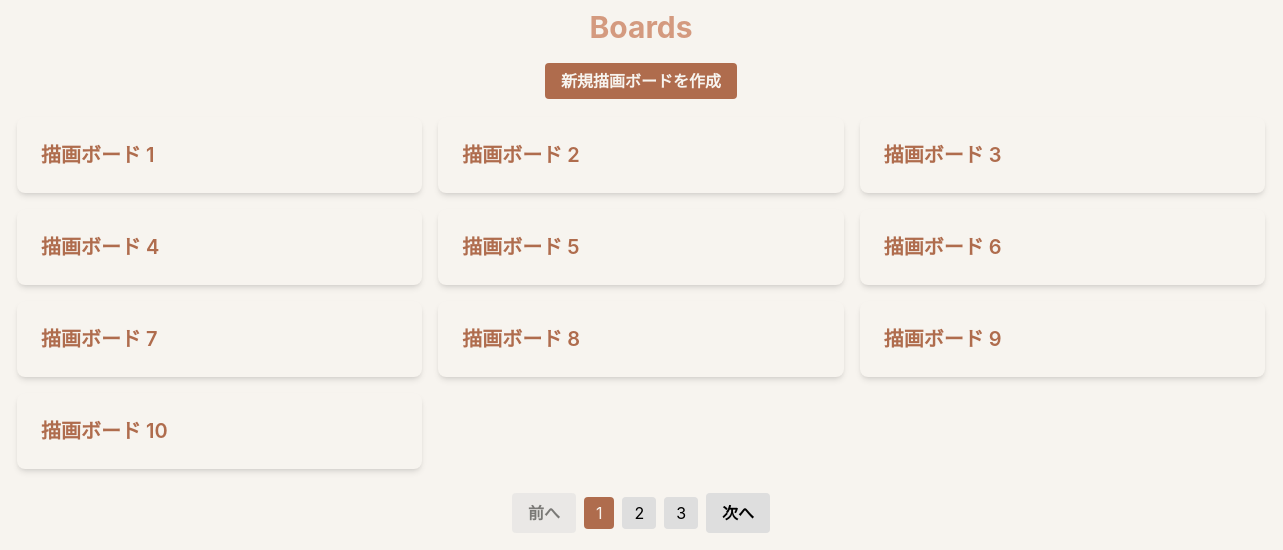
Scenario: DrawingList › 「次へ」ボタンをクリックすると次のページが読み込まれる
This screenshot has width=1283, height=550.
Expected: the text "描画ボード 1" is shown, [41,143,154,167]
Click the button "次へ" at x=738, y=513, box [706,493,770,533]
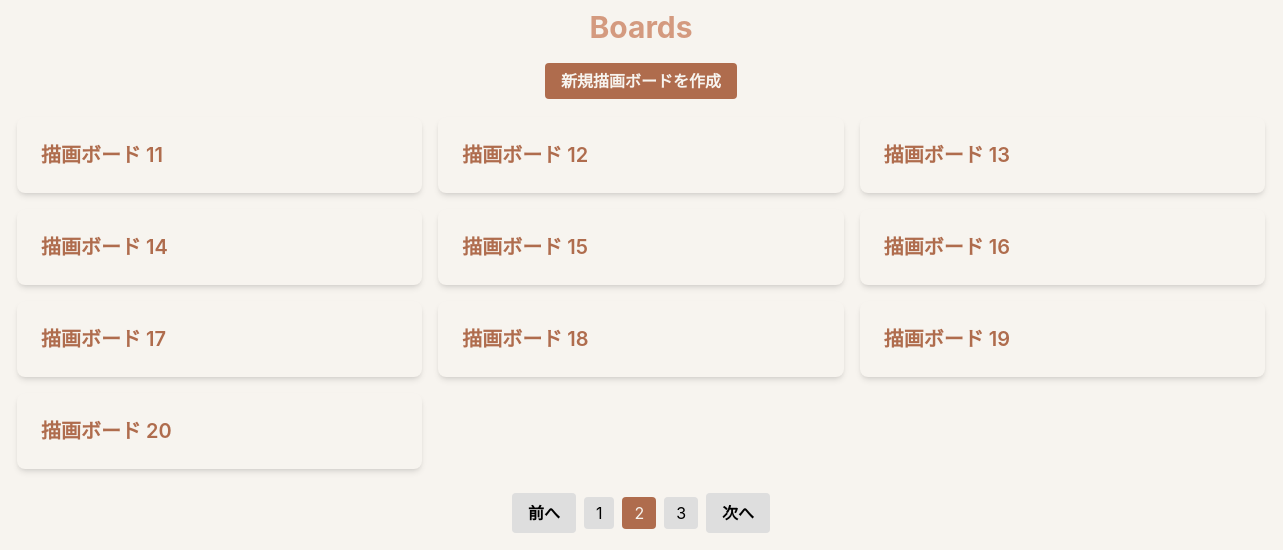
Expected: the text "描画ボード 11" is shown, [41,143,163,167]
